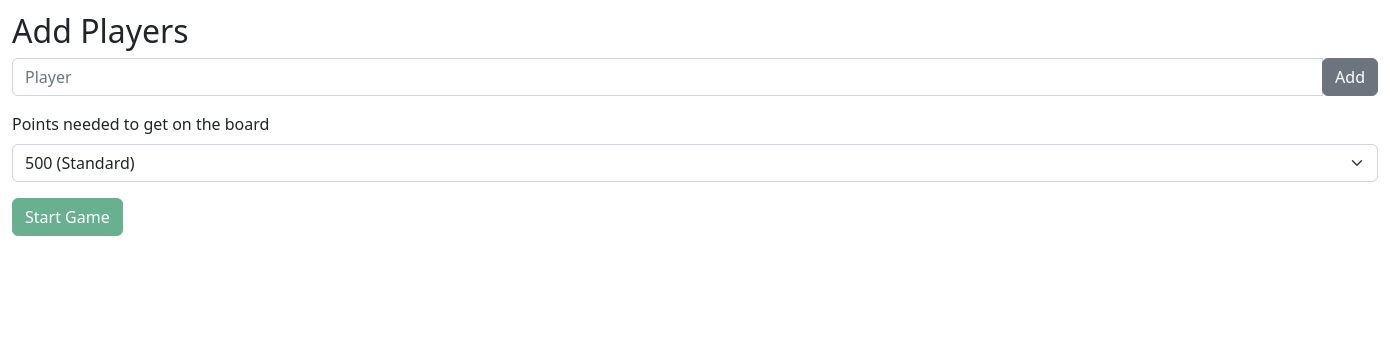
Setup › enables start button when 2 or more players are added
The width and height of the screenshot is (1390, 361).
Type "Alice" into the field with placeholder "Player".
click(668, 77); type("Alice")  # box [12,58,1323,96]
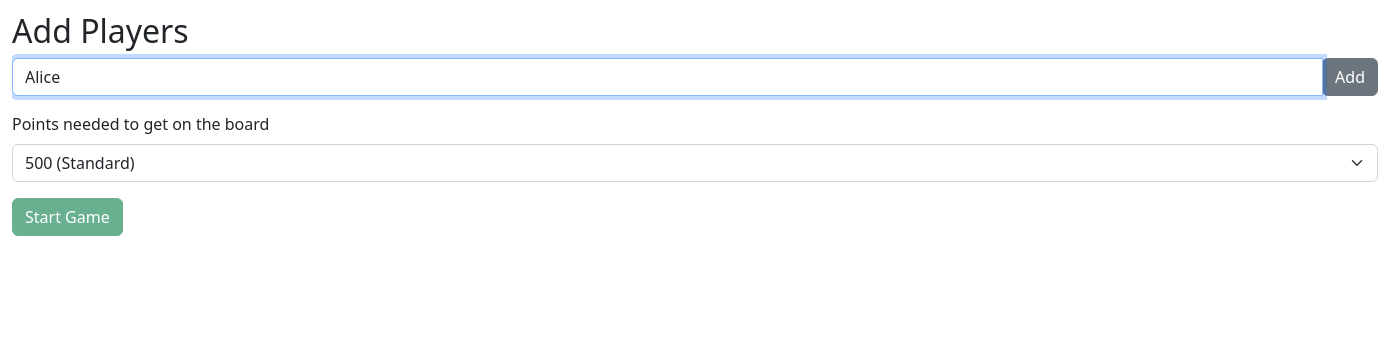
Click the button "Add".
click(1350, 77)  # box [1322,58,1378,96]
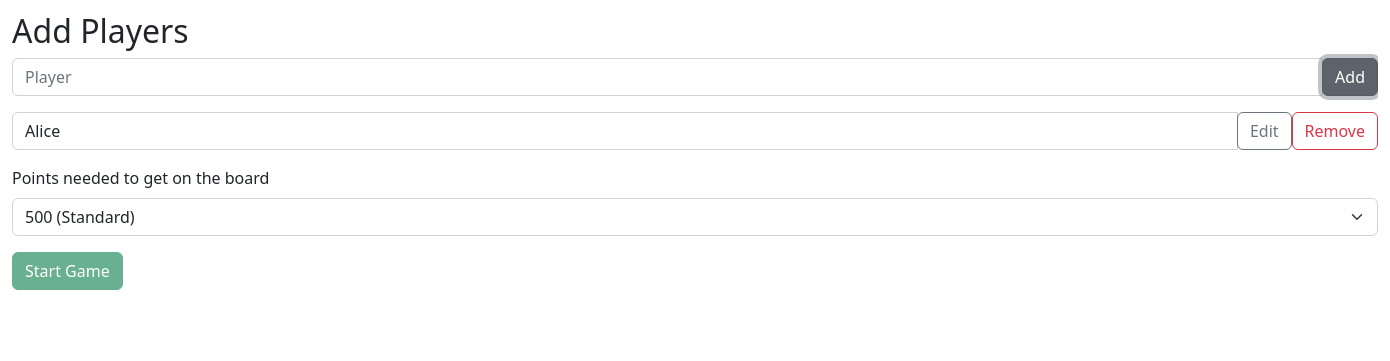
Type "Bob" into the field with placeholder "Player".
click(668, 77); type("Bob")  # box [12,58,1323,96]
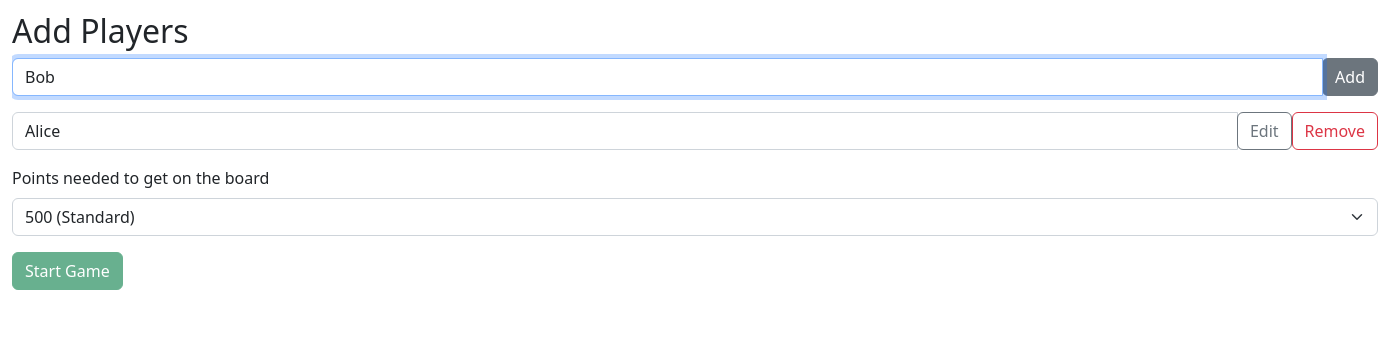
Click the button "Add".
click(1350, 77)  # box [1322,58,1378,96]
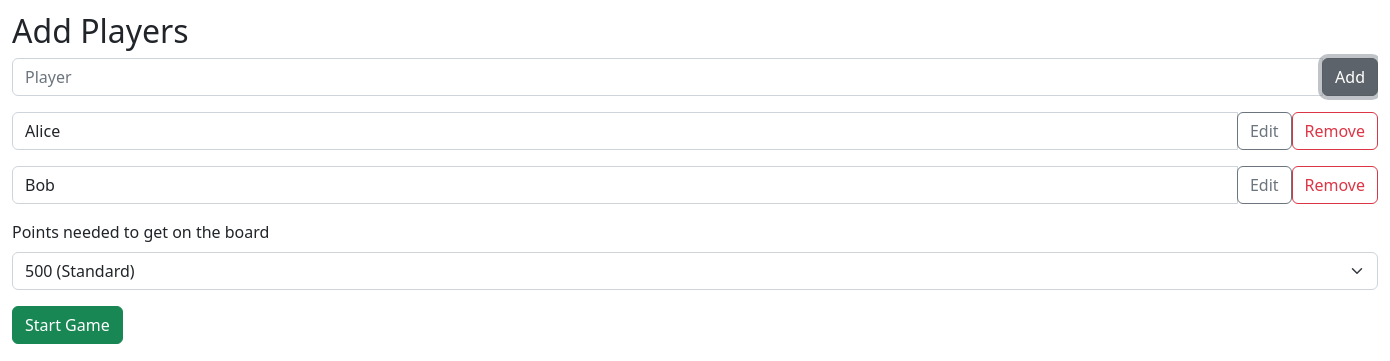
Now the button "Start Game" is enabled, box [12,306,123,344]
